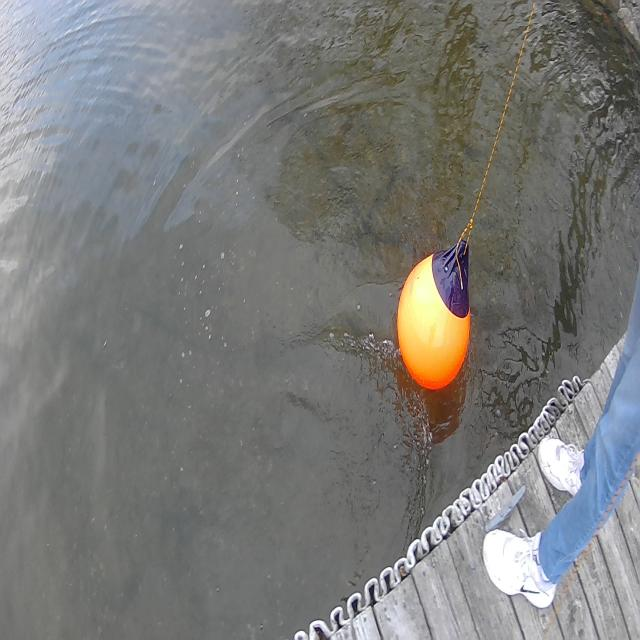Buoy: (392, 207, 482, 409)
